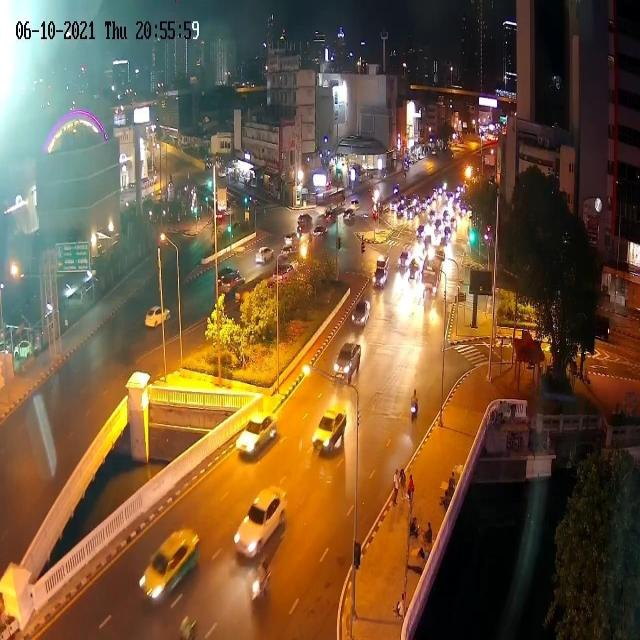Car: (137, 528, 199, 610), (231, 483, 287, 562), (236, 410, 279, 459), (312, 407, 347, 456), (334, 341, 362, 382), (144, 304, 172, 330), (351, 300, 372, 330), (221, 275, 245, 290), (255, 246, 274, 264), (397, 249, 412, 271), (313, 225, 330, 236), (415, 224, 425, 242), (324, 210, 336, 223), (434, 218, 442, 236), (284, 233, 296, 245), (457, 204, 468, 217), (343, 209, 356, 220), (444, 191, 454, 205), (280, 246, 294, 256), (442, 227, 452, 240), (427, 210, 436, 223), (449, 217, 458, 230), (389, 199, 398, 212), (441, 209, 449, 223), (404, 210, 415, 219), (414, 202, 422, 214), (421, 198, 428, 210), (396, 206, 404, 216), (398, 194, 406, 204), (456, 184, 466, 192), (350, 200, 360, 208), (425, 195, 432, 204)
Cycle: (247, 560, 274, 610), (408, 384, 420, 430)
Truck: (422, 244, 444, 298), (372, 254, 390, 290)
